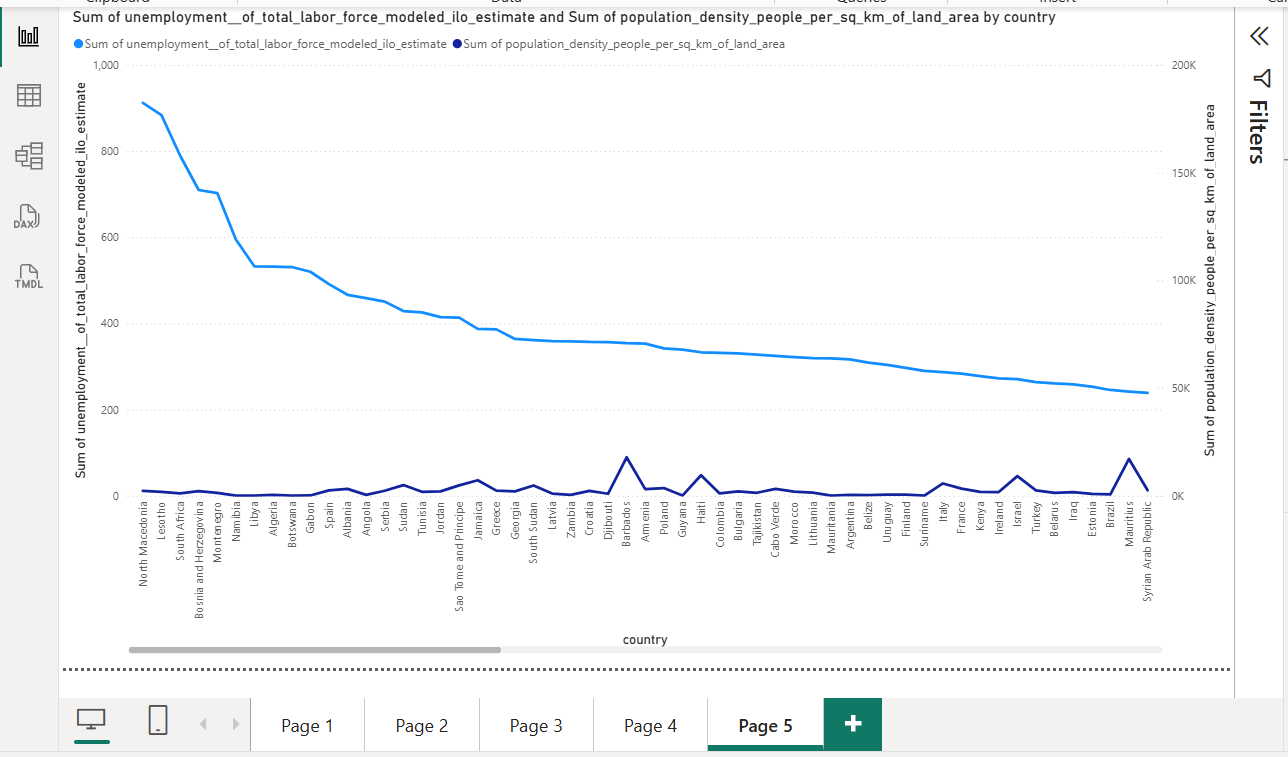

Layout of this report page (visuals, bound fields, positions):
{"tool":"powerbi","page":{"name":"Page 5","canvas":[1280,720],"ordinal":4},"visuals":[{"type":"lineChart","fields":{"Category":["data_cleaned_with_clusters.country"],"Y":["Sum(data_cleaned_with_clusters.unemployment__of_total_labor_force_modeled_ilo_estimate)"],"Y2":["Sum(data_cleaned_with_clusters.population_density_people_per_sq_km_of_land_area)"]},"box":[9.8,0,1255,709.2],"z":0}]}

Visuals, with their boxes on the page's 1280x720 design canvas (x1, y1, x2, y2). These are canvas units, not pixel positions in the 1288x757 screenshot, which may show the page scaled, cropped or inside an application window:
lineChart - data_cleaned_with_clusters.country x Sum(data_cleaned_with_clusters.unemployment__of_total_labor_force_modeled_ilo_estimate): x1=10, y1=0, x2=1265, y2=709
